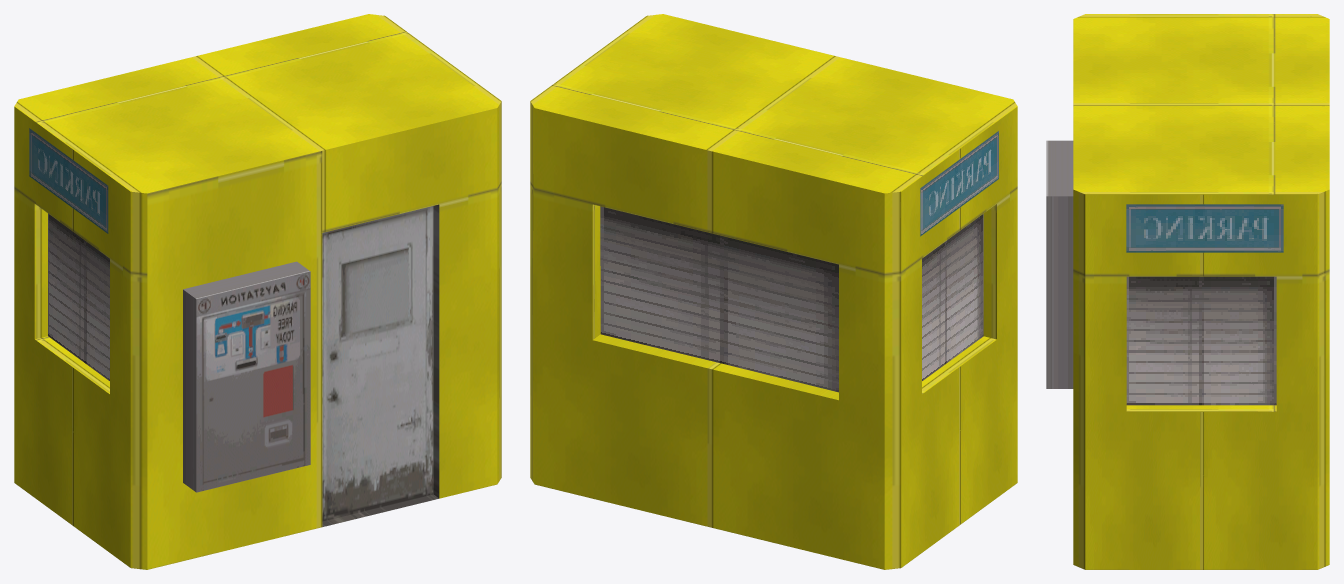
Rendered from paypark_lan03.obj.
3 views of the same model, side by side, from view 1: azimuth 30°, elevation 25°; view 2: azimuth 150°, elevation 25°; view 3: azimuth 270°, elevation 25° (orthographic).
Parts seen in each view (by area): view 1: paypark_lan03; view 2: paypark_lan03; view 3: paypark_lan03.
Boxes of the visible parts, x1,y1,x2,y2 form: paypark_lan03: [14, 14, 501, 569]; paypark_lan03: [530, 14, 1017, 569]; paypark_lan03: [1046, 14, 1329, 569].
Bounding box in the file's own units: 3.55 × 3.4 × 2.33.
